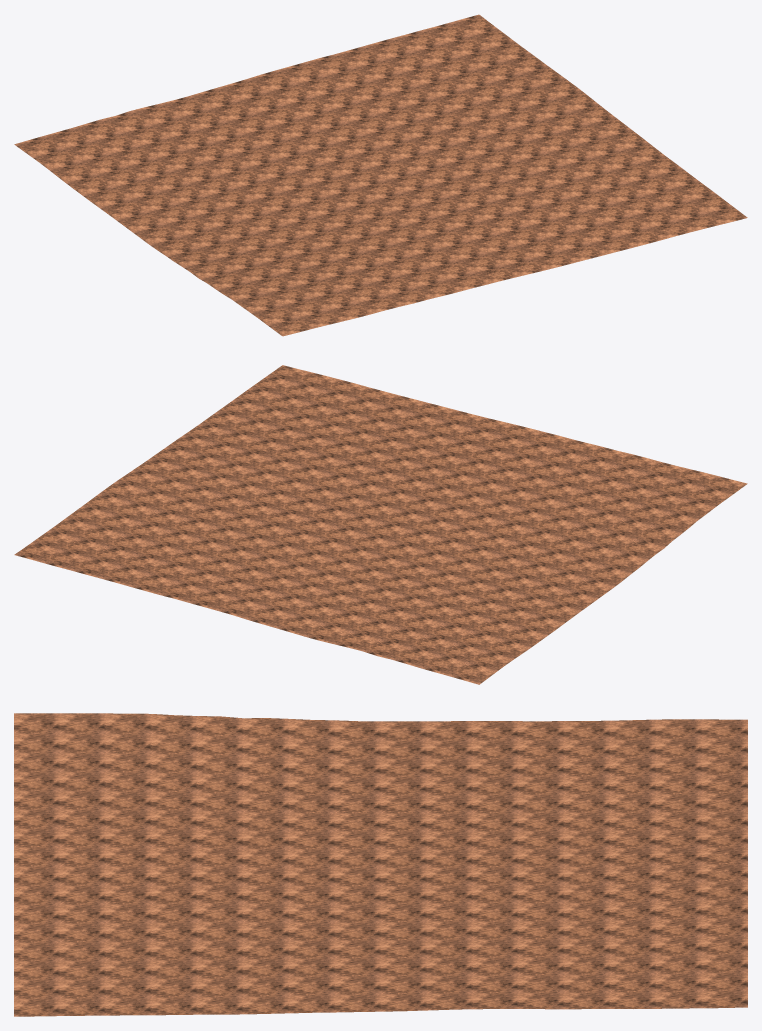
Rendered from terrain_09_11.dae.
3 renders of one model, top to bottom at view 1: azimuth 30°, elevation 25°; view 2: azimuth 150°, elevation 25°; view 3: azimuth 270°, elevation 25°, orthographic. The views are drawn at different scales.
Parts seen in each view (by area): view 1: terrain_09_11-node; view 2: terrain_09_11-node; view 3: terrain_09_11-node.
Part boxes in pixels (left/top/right/bottom): terrain_09_11-node: left=14, top=14, right=747, bottom=336; terrain_09_11-node: left=14, top=365, right=747, bottom=684; terrain_09_11-node: left=14, top=713, right=747, bottom=1016.
Size of the model in its own units: 128 by 128 by 4.65.
Materials: 1 (1 with a texture image).
